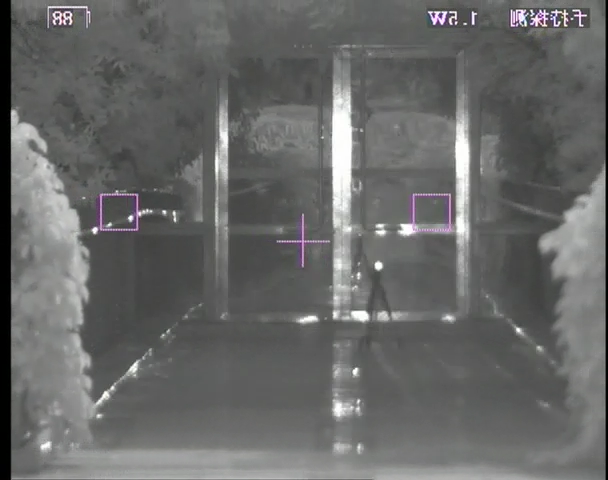my: (372, 260, 384, 271)
